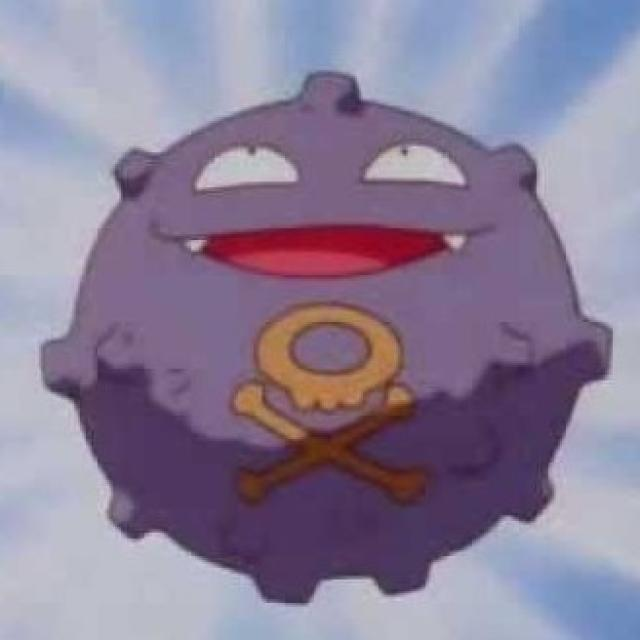Koffing: (44, 74, 610, 599)
